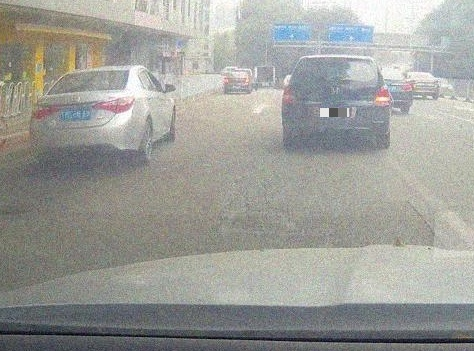L_light: (31, 103, 58, 119), (282, 89, 293, 103)
R_light: (91, 95, 134, 114), (376, 87, 389, 106)
T_light: (85, 71, 102, 75), (331, 58, 344, 62)
day-no: (30, 67, 135, 169)
day-right: (282, 56, 391, 148)
plate_1: (320, 108, 349, 117)
